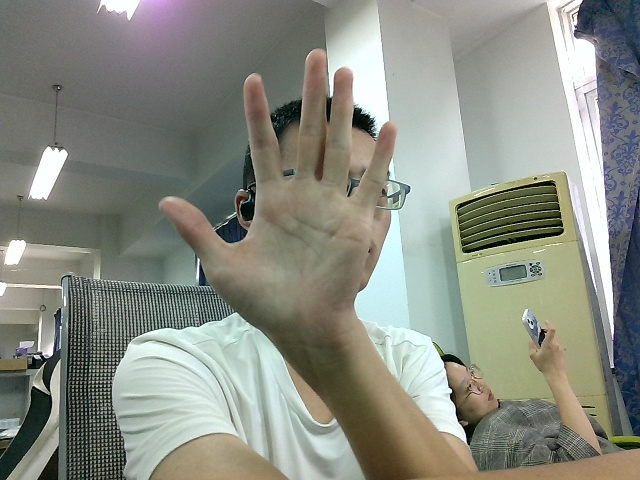paper: (159, 40, 418, 363)
